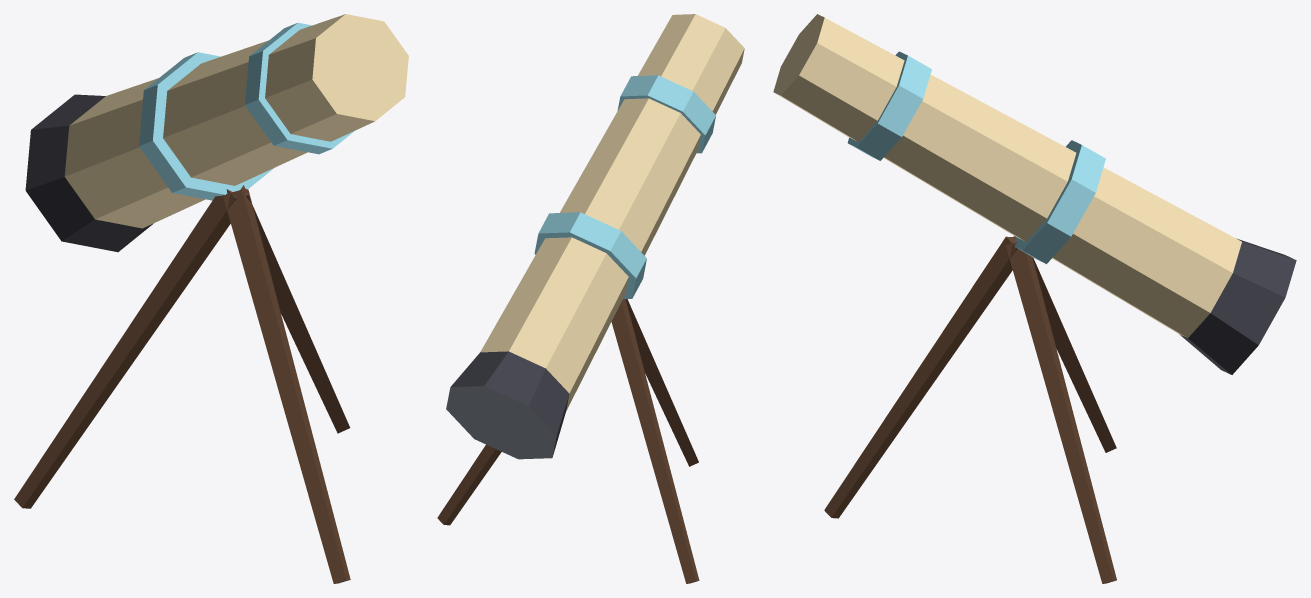
The model's file is deco_telescope.obj.
3 renders of one model, left to right at view 1: azimuth 30°, elevation 25°; view 2: azimuth 150°, elevation 25°; view 3: azimuth 270°, elevation 25°, orthographic. The views are drawn at different scales.
Parts seen in each view (by area): view 1: deco_telescope; view 2: deco_telescope; view 3: deco_telescope.
Boxes of the visible parts, box(x1,y1,x2,y2) form: deco_telescope: box(14, 14, 408, 583); deco_telescope: box(437, 14, 744, 583); deco_telescope: box(773, 14, 1296, 583).
Size of the model in its own units: 0.0234 by 0.0387 by 0.0367.
Materials: 1 (1 with a texture image).
